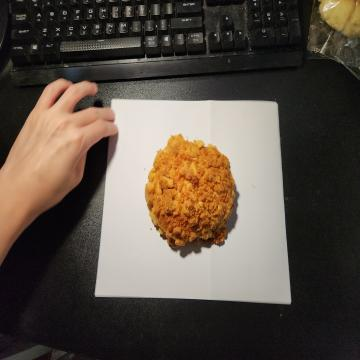soboru_bread: (146, 134, 238, 251)
